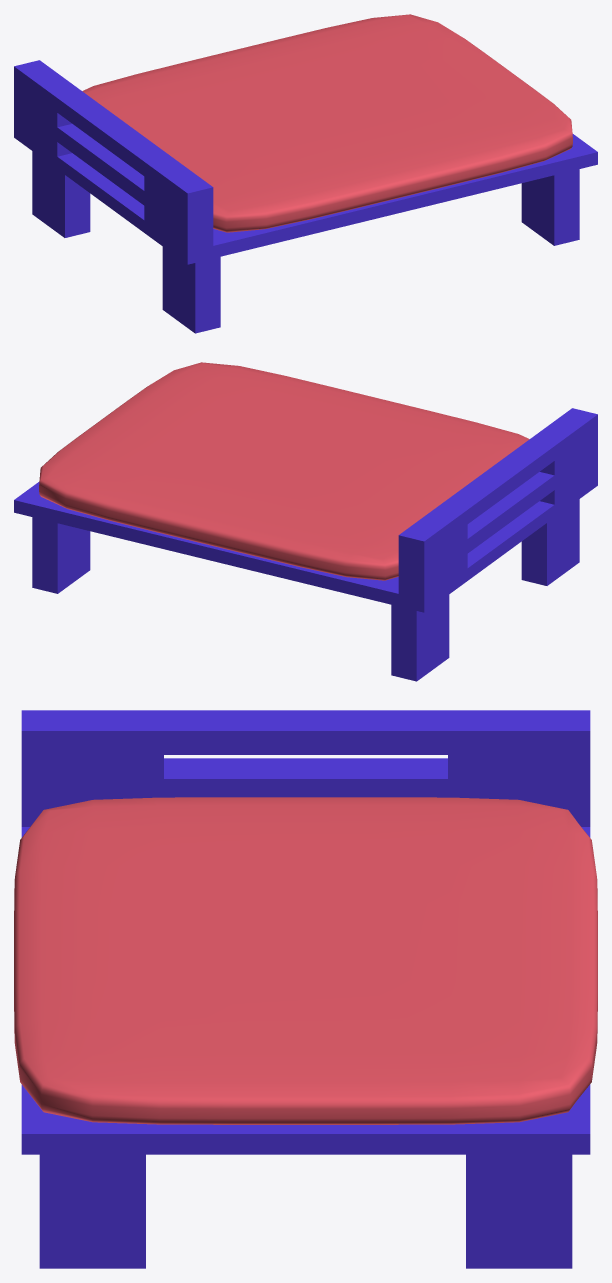
The model's file is ChestOfDrawers.fbx.
3 renders of one model, top to bottom at view 1: azimuth 30°, elevation 25°; view 2: azimuth 150°, elevation 25°; view 3: azimuth 270°, elevation 25°, orthographic. The views are drawn at different scales.
Parts seen in each view (by area): view 1: Cube.021, Cube.020; view 2: Cube.021, Cube.020; view 3: Cube.021, Cube.020.
Part boxes in pixels (<box>): Cube.021: <box>82,14,572,232</box>; Cube.020: <box>14,60,597,333</box>; Cube.021: <box>39,362,529,580</box>; Cube.020: <box>14,408,597,681</box>; Cube.021: <box>14,797,597,1124</box>; Cube.020: <box>21,710,590,1268</box>.
Bounding box in the file's own units: 371 × 127 × 280.
